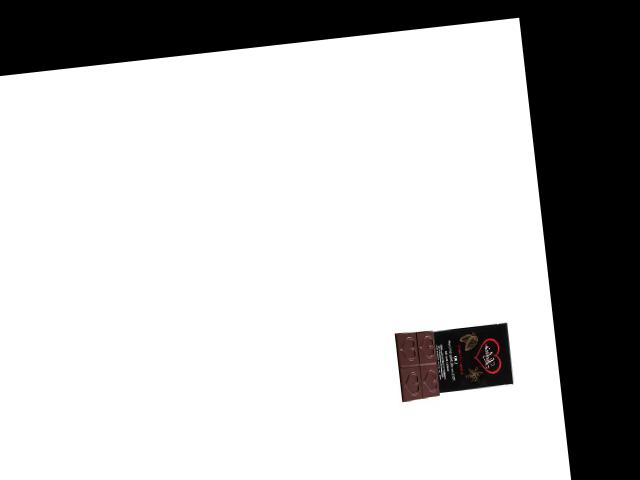chocolate: (389, 318, 515, 407)
